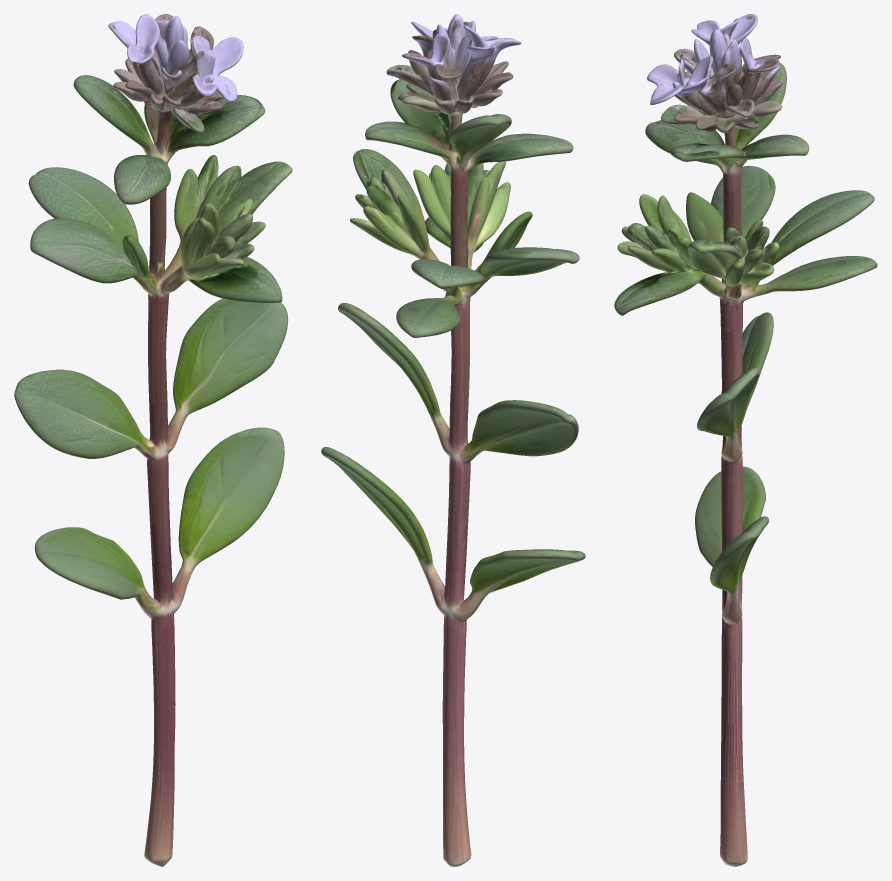
The model's file is bailixiang.glb.
3 renders of one model, left to right at view 1: azimuth 30°, elevation 25°; view 2: azimuth 150°, elevation 25°; view 3: azimuth 270°, elevation 25°, orthographic.
Visible parts, largest first — view 1: node_0; view 2: node_0; view 3: node_0.
Boxes of the visible parts, x1,y1,x2,y2 form: node_0: (14,14,292,866); node_0: (321,14,585,866); node_0: (614,14,877,866).
Size of the model in its own units: 0.3831 by 1.2 by 0.3394.
1 material, 1 textured.
